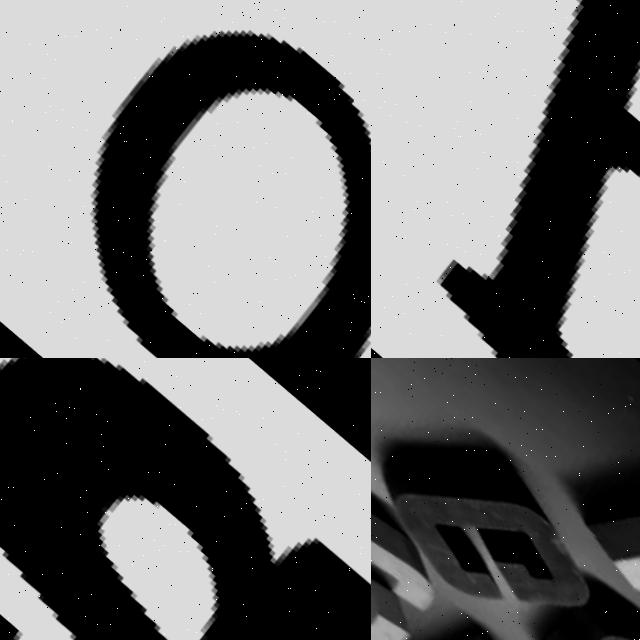A: (0, 358, 371, 640)
C: (371, 445, 461, 640)
G: (0, 0, 371, 358), (371, 378, 625, 640)
H: (563, 433, 640, 640)
S: (521, 565, 640, 640)
T: (371, 553, 555, 640)
